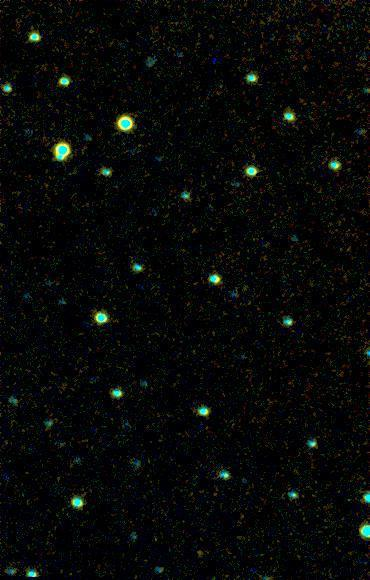star: (185, 539, 215, 569)
